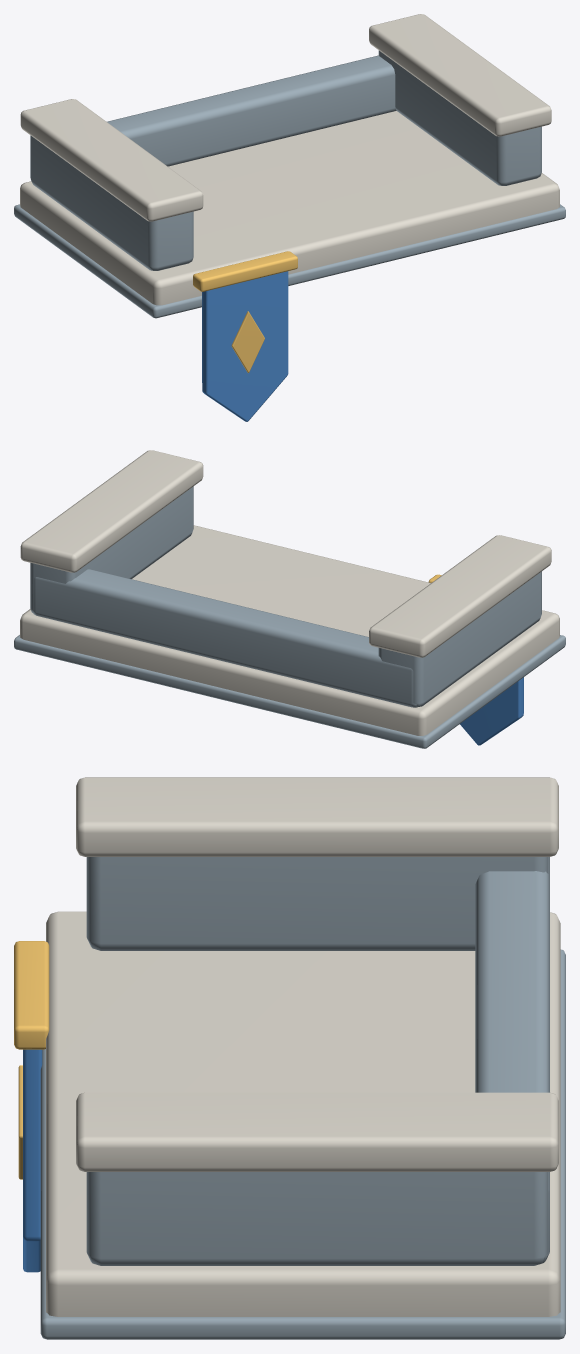
Rendered from HeroBalcony.fbx.
The picture shows the model from 3 angles, top to bottom: view 1: azimuth 30°, elevation 25°; view 2: azimuth 150°, elevation 25°; view 3: azimuth 270°, elevation 25°; orthographic projection. The views are drawn at different scales.
Parts seen in each view (by area): view 1: HeroBalcony_Keep_Limestone, HeroBalcony_Keep_Ashlar, HeroBalcony_Knight_Blue, HeroBalcony_Gold; view 2: HeroBalcony_Keep_Limestone, HeroBalcony_Keep_Ashlar, HeroBalcony_Knight_Blue; view 3: HeroBalcony_Keep_Limestone, HeroBalcony_Keep_Ashlar, HeroBalcony_Gold, HeroBalcony_Knight_Blue.
Boxes of the visible parts, x1,y1,x2,y2 form: HeroBalcony_Keep_Limestone: (20,14,559,305); HeroBalcony_Keep_Ashlar: (14,50,565,318); HeroBalcony_Knight_Blue: (202,271,288,421); HeroBalcony_Gold: (193,251,297,372); HeroBalcony_Keep_Limestone: (20,450,559,735); HeroBalcony_Keep_Ashlar: (14,486,565,748); HeroBalcony_Knight_Blue: (460,677,523,745); HeroBalcony_Keep_Limestone: (46,777,560,1316); HeroBalcony_Keep_Ashlar: (40,857,565,1339); HeroBalcony_Gold: (14,941,49,1179); HeroBalcony_Knight_Blue: (23,1049,42,1272).
Bounding box in the file's own units: 249 × 131 × 155.
